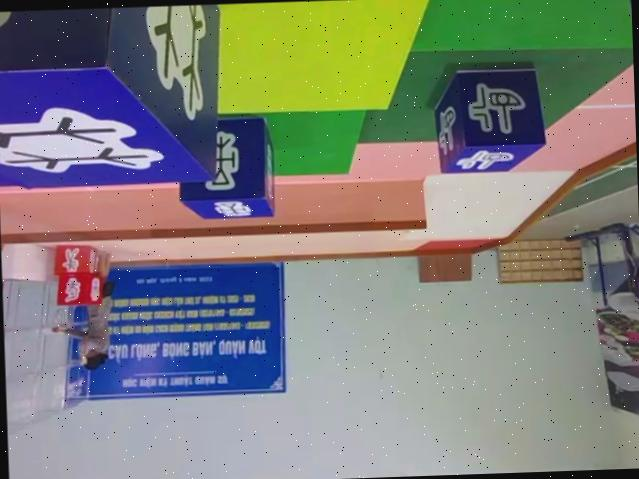R2 Real Blue: (0, 3, 224, 209), (434, 65, 549, 173), (176, 115, 277, 221)
